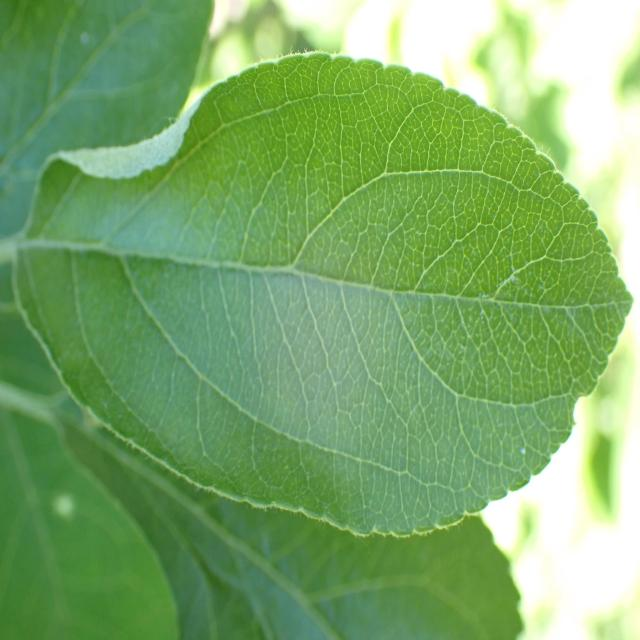healthy: (13, 48, 632, 538), (0, 0, 216, 243), (1, 403, 180, 640)
